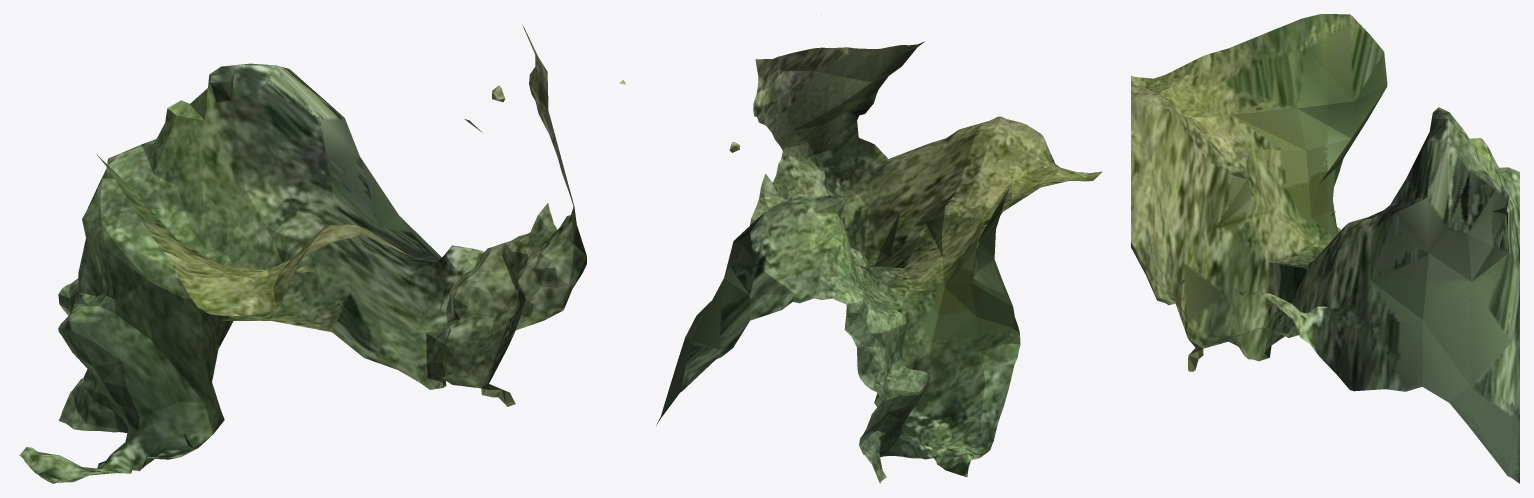
3 views of the same model, side by side, from view 1: azimuth 30°, elevation 25°; view 2: azimuth 150°, elevation 25°; view 3: azimuth 270°, elevation 25° (orthographic). The views are drawn at different scales.
Size of the model in its own units: 5.9 by 5.9 by 5.9.
Materials: 5 (5 with a texture image).
